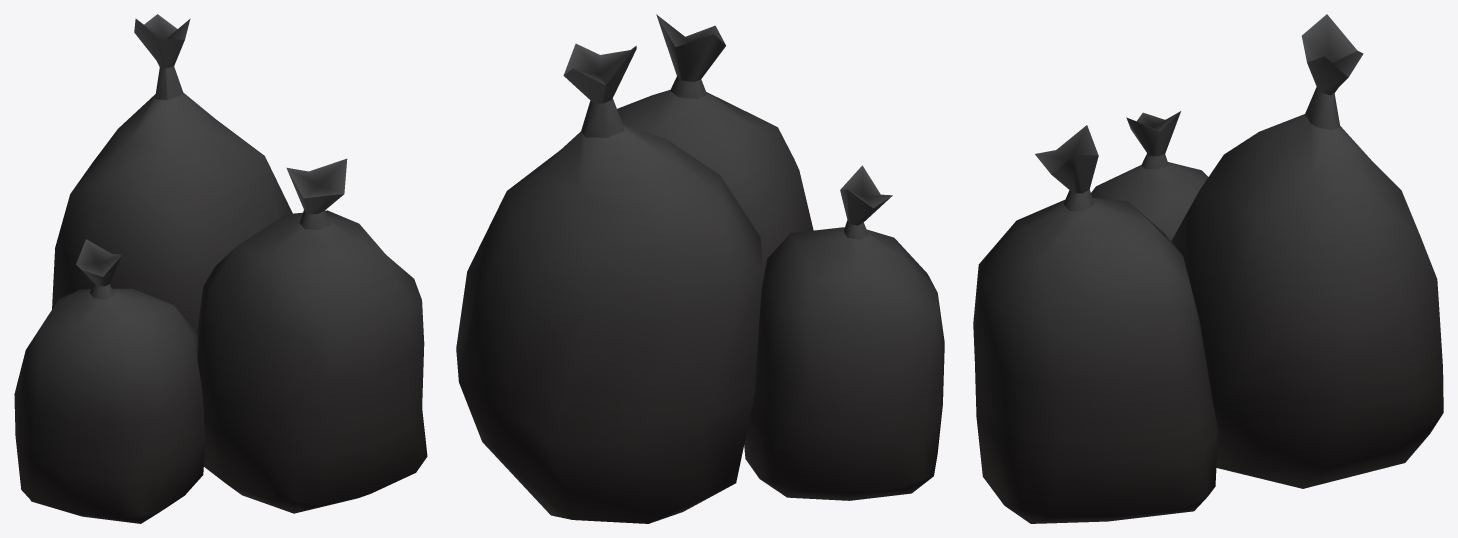
Rendered from Trash_bag_004.glb.
3 renders of one model, left to right at view 1: azimuth 30°, elevation 25°; view 2: azimuth 150°, elevation 25°; view 3: azimuth 270°, elevation 25°, orthographic. The views are drawn at different scales.
Parts seen in each view (by area): view 1: Trash_bag_004; view 2: Trash_bag_004; view 3: Trash_bag_004.
Part boxes in pixels (box(x1,y1,x2,y2)): Trash_bag_004: box(14, 14, 427, 523); Trash_bag_004: box(456, 14, 944, 523); Trash_bag_004: box(973, 14, 1443, 523).
Bounding box in the file's own units: 0.4815 × 0.5219 × 0.5098.
1 material, 1 textured.
